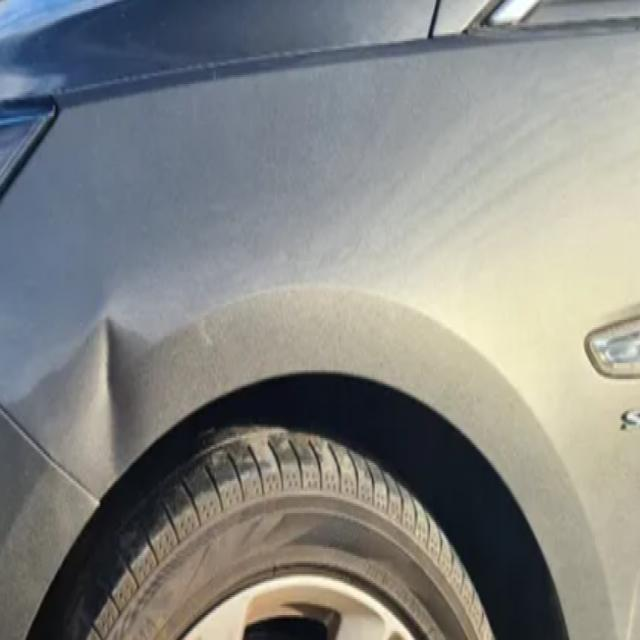dents: (50, 308, 171, 463)
